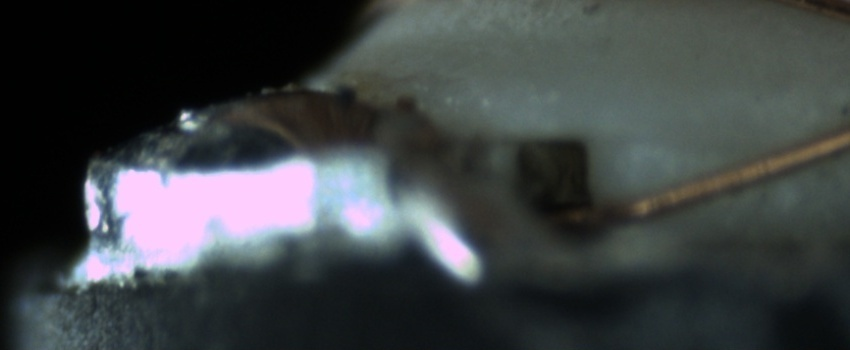DL: (615, 110, 716, 173)
